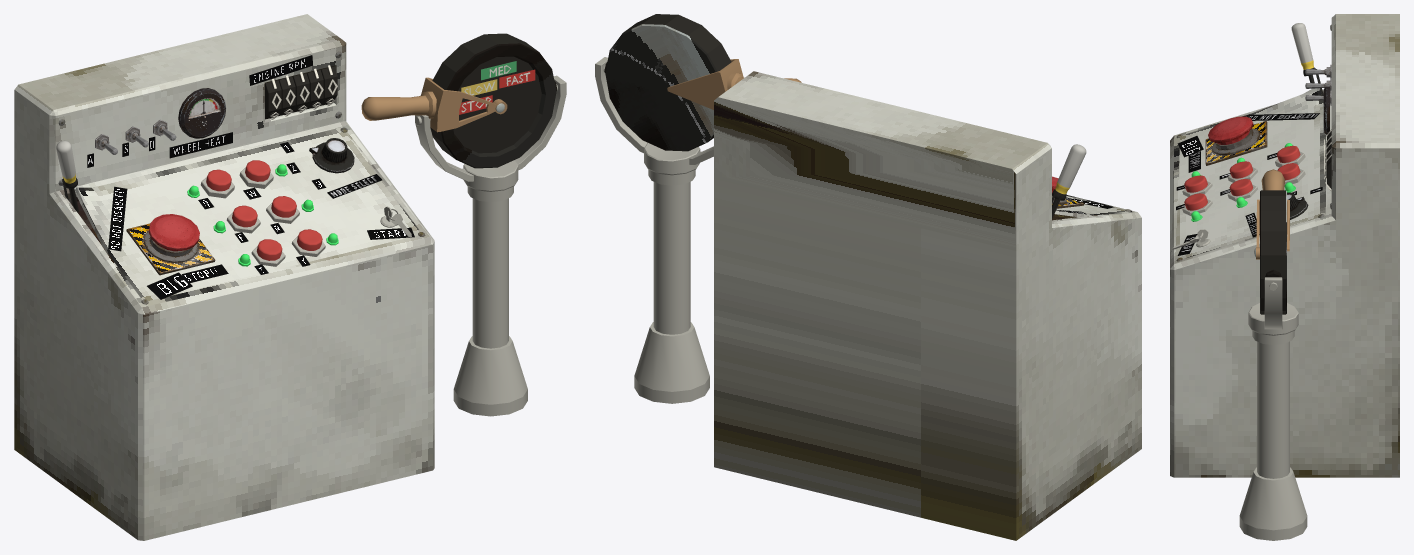
Rendered from control_panel.glb.
3 renders of one model, left to right at view 1: azimuth 30°, elevation 25°; view 2: azimuth 150°, elevation 25°; view 3: azimuth 270°, elevation 25°, orthographic. The views are drawn at different scales.
Parts seen in each view (by area): view 1: panel_body_geo, speedControl_post_geo, speedControl_face, speedControl_handle_geo, bigStop_body_geo, analogDial_body_geo, bigStop_button_geo, dial_dial_geo, label_warning_geo, screwdriver_geo, label_RPM_geo, label_heat_geo (+1 smaller); view 2: panel_body_geo, speedControl_post_geo, speedControl_face, speedControl_handle_geo, screwdriver_geo; view 3: panel_body_geo, speedControl_post_geo, speedControl_face, bigStop_body_geo, bigStop_button_geo, speedControl_handle_geo, screwdriver_geo, label_warning_geo, dial_dial_geo, label_big_geo, pushButton_button_Y, pushButton_button_E (+4 smaller).
Boxes of the visible parts, x1,y1,x2,y2 form: panel_body_geo: (14,14,434,540); speedControl_post_geo: (415,75,566,416); speedControl_face: (430,33,556,168); speedControl_handle_geo: (361,77,507,132); bigStop_body_geo: (126,223,215,275); analogDial_body_geo: (178,88,226,138); bigStop_button_geo: (148,214,199,251); dial_dial_geo: (309,138,354,173); label_warning_geo: (108,186,127,251); screwdriver_geo: (56,140,78,212); label_RPM_geo: (249,55,312,85); label_heat_geo: (169,132,232,158); panel_body_geo: (714,71,1141,540); speedControl_post_geo: (595,57,713,403); speedControl_face: (604,14,731,151); speedControl_handle_geo: (667,59,801,109); screwdriver_geo: (1052,144,1086,213); panel_body_geo: (1170,14,1399,477); speedControl_post_geo: (1239,277,1307,540); speedControl_face: (1254,190,1286,314); bigStop_body_geo: (1205,121,1267,165); bigStop_button_geo: (1208,116,1253,144); speedControl_handle_geo: (1256,169,1289,259); screwdriver_geo: (1291,23,1315,83); label_warning_geo: (1248,113,1319,120); dial_dial_geo: (1287,192,1308,219); label_big_geo: (1177,136,1203,157); pushButton_button_Y: (1184,193,1207,210); pushButton_button_E: (1229,161,1252,178).
Bounding box in the file's own units: 3.32 × 2.35 × 1.47.
19 materials, 6 textured.
